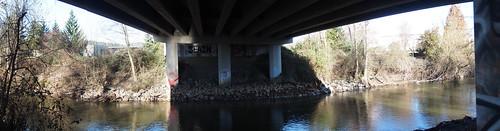bridge: (59, 1, 458, 88)
river: (21, 84, 477, 131)
tree: (1, 16, 65, 129)
vegetation: (329, 23, 485, 82), (72, 41, 160, 91)
